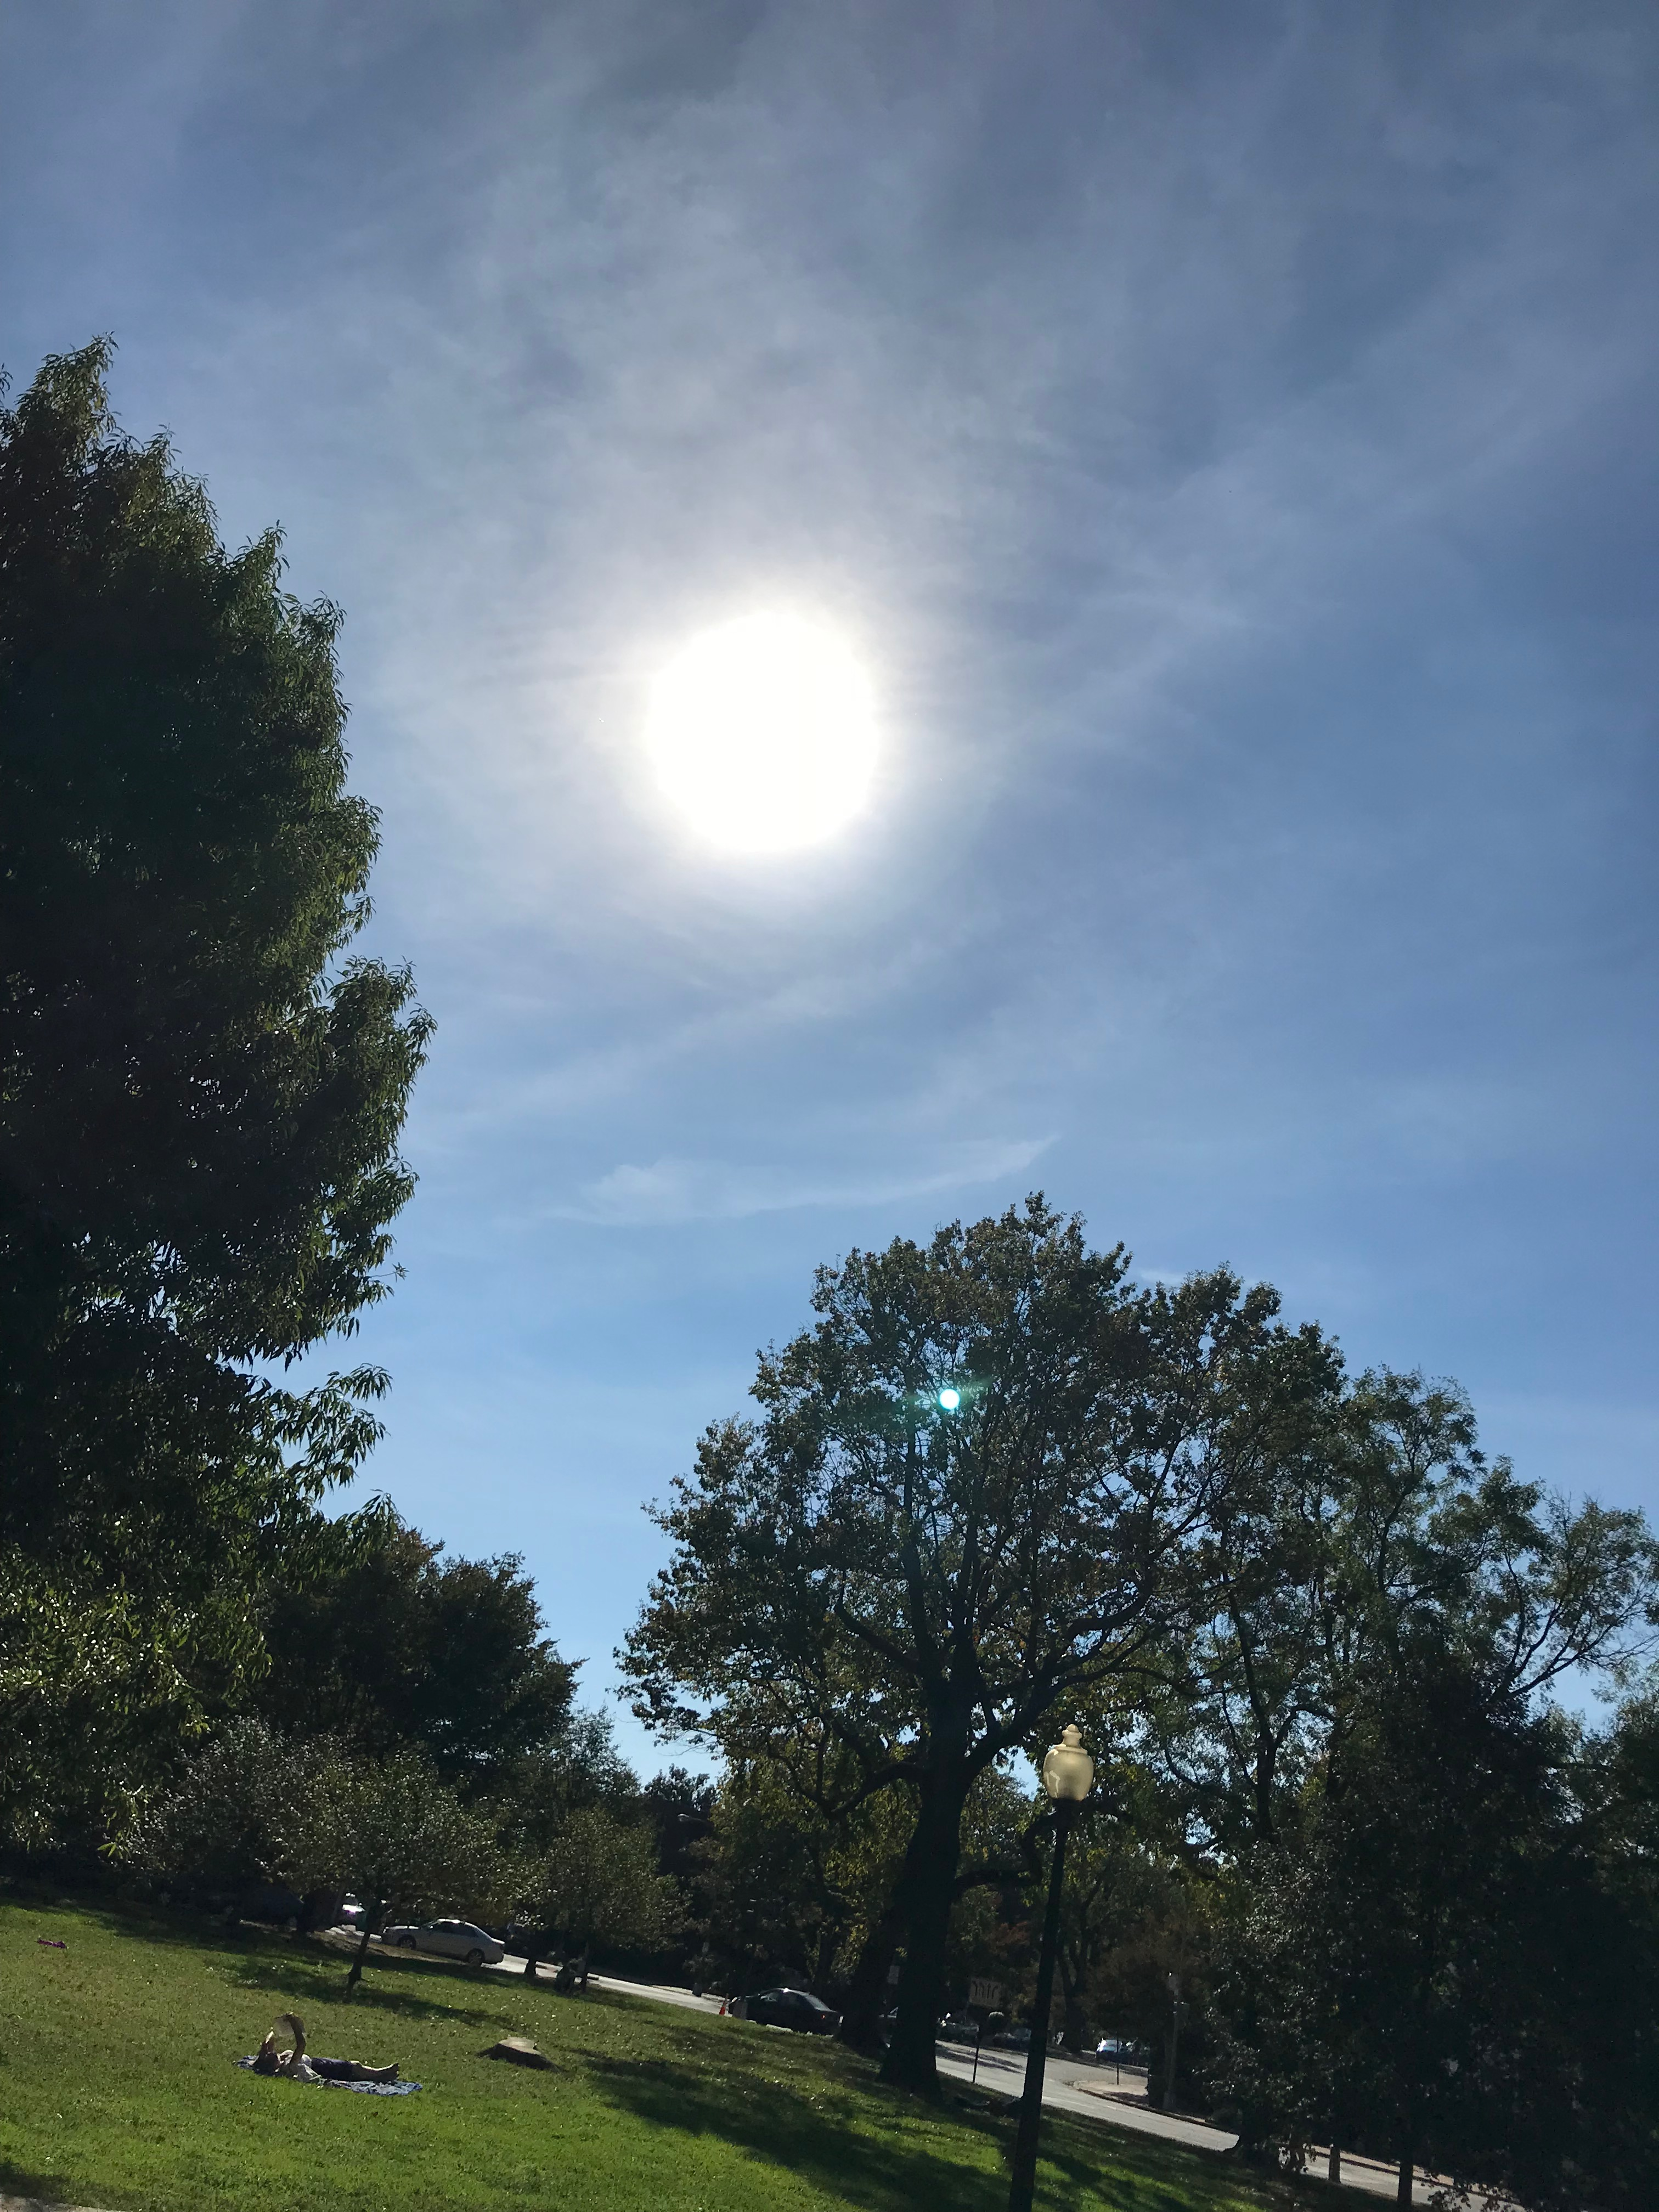flare: (938, 1388, 962, 1411)
